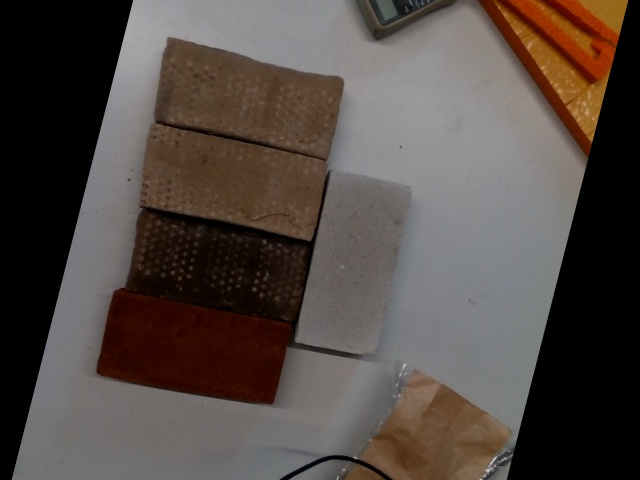brick: (97, 293, 291, 411), (126, 209, 311, 326), (296, 169, 409, 358), (139, 127, 327, 240), (155, 47, 342, 150)
